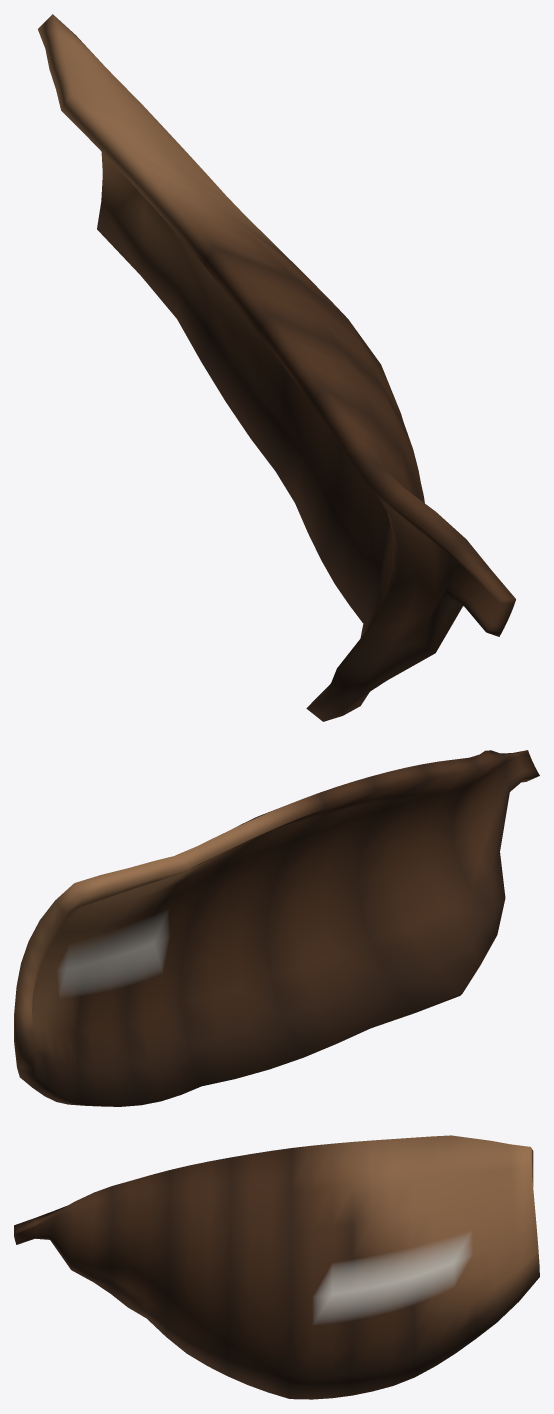
Rendered from Sparrow_WingFolded.fbx.
The picture shows the model from 3 angles, top to bottom: view 1: azimuth 30°, elevation 25°; view 2: azimuth 150°, elevation 25°; view 3: azimuth 270°, elevation 25°; orthographic projection. The views are drawn at different scales.
Parts seen in each view (by area): view 1: Sparrow_WingFolded; view 2: Sparrow_WingFolded; view 3: Sparrow_WingFolded.
Part boxes in pixels (left/top/right/bottom): Sparrow_WingFolded: left=38, top=14, right=515, bottom=721; Sparrow_WingFolded: left=14, top=750, right=539, bottom=1106; Sparrow_WingFolded: left=14, top=1135, right=539, bottom=1399.
Size of the model in its own units: 0.7737 by 1.29 by 2.67.
